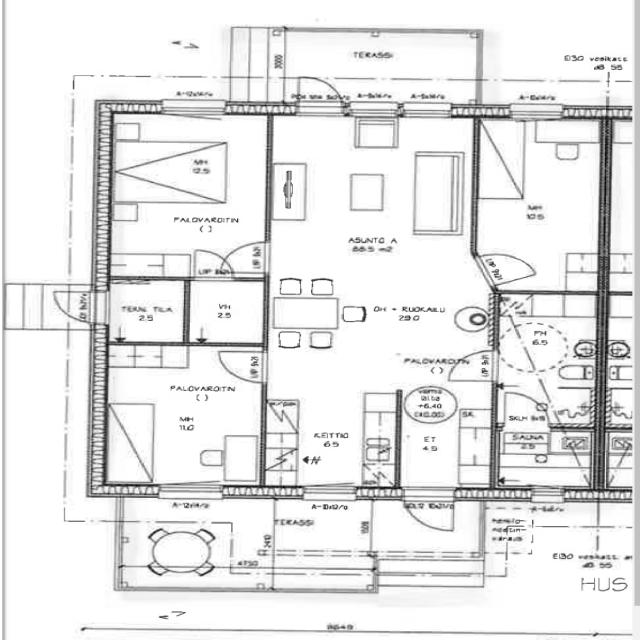door: (183, 241, 264, 284), (397, 484, 460, 538), (476, 247, 544, 290), (288, 73, 349, 119), (211, 344, 273, 387), (50, 284, 106, 328), (494, 388, 551, 427), (448, 349, 500, 383)
window: (369, 562, 483, 593), (154, 98, 231, 121), (150, 480, 227, 501), (292, 481, 362, 504), (393, 98, 462, 121), (500, 100, 568, 122), (524, 484, 568, 503)
zone: (264, 138, 492, 421), (110, 109, 274, 280), (266, 116, 478, 232), (470, 116, 607, 292), (101, 345, 264, 488), (495, 293, 602, 427), (274, 493, 376, 583), (494, 425, 598, 489), (106, 276, 188, 348), (185, 279, 267, 345)
